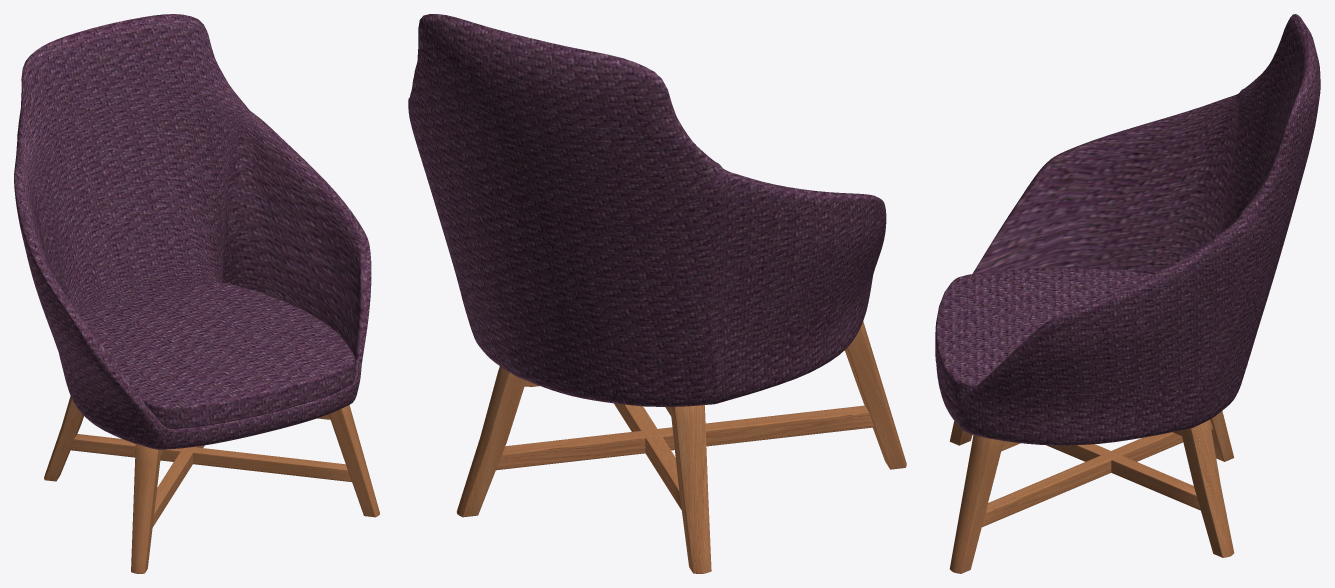
The model's file is Nora_MB_Chair.glb.
3 views of the same model, side by side, from view 1: azimuth 30°, elevation 25°; view 2: azimuth 150°, elevation 25°; view 3: azimuth 270°, elevation 25° (orthographic). The views are drawn at different scales.
Parts seen in each view (by area): view 1: Fabric, Legs; view 2: Fabric, Legs; view 3: Fabric, Legs.
Boxes of the visible parts, x1=… form: Fabric: x1=14, y1=14, x2=371, y2=449; Legs: x1=44, y1=396, x2=379, y2=573; Fabric: x1=408, y1=14, x2=886, y2=406; Legs: x1=456, y1=321, x2=906, y2=573; Fabric: x1=935, y1=14, x2=1320, y2=445; Legs: x1=949, y1=411, x2=1234, y2=573.
Bounding box in the file's own units: 73.87 × 94.04 × 72.03.
Materials: 2 (2 with a texture image).
